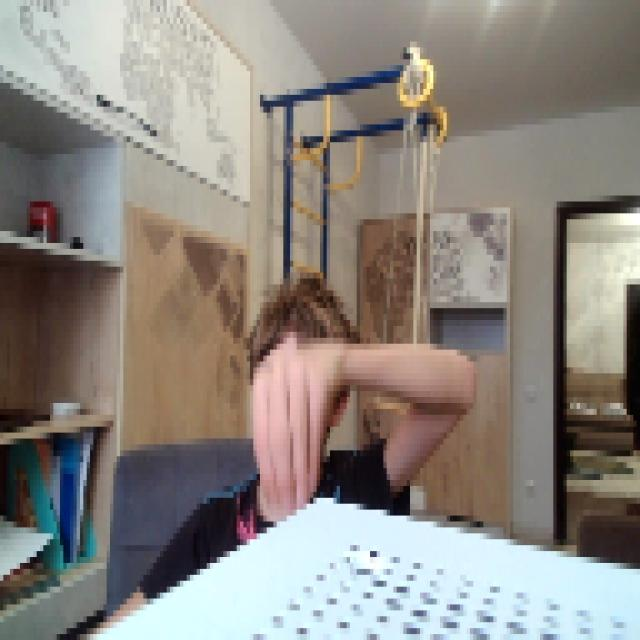left_click: (247, 326, 340, 510)
